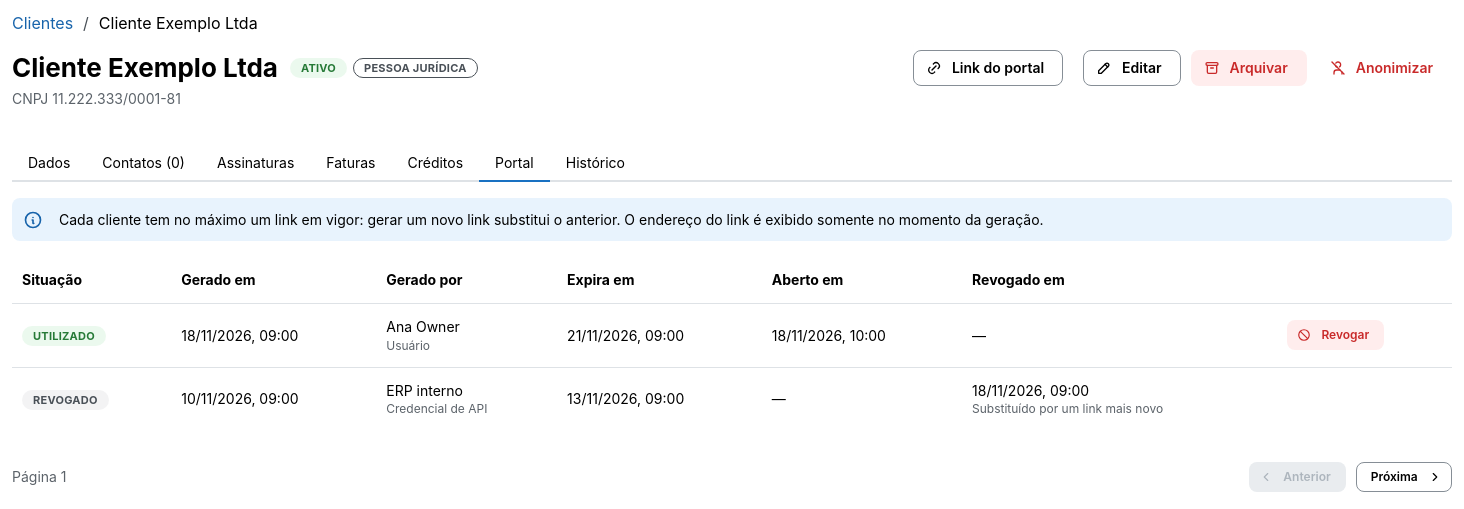
Test case: links do portal na ficha do cliente › pagina a lista pelo cursor
Expected: the number of rows is 3, [12,258,1452,304]; [12,304,1452,367]; [12,367,1452,430]
Click the button "Próxima" at point(1404, 477), box [1356,462,1452,492]
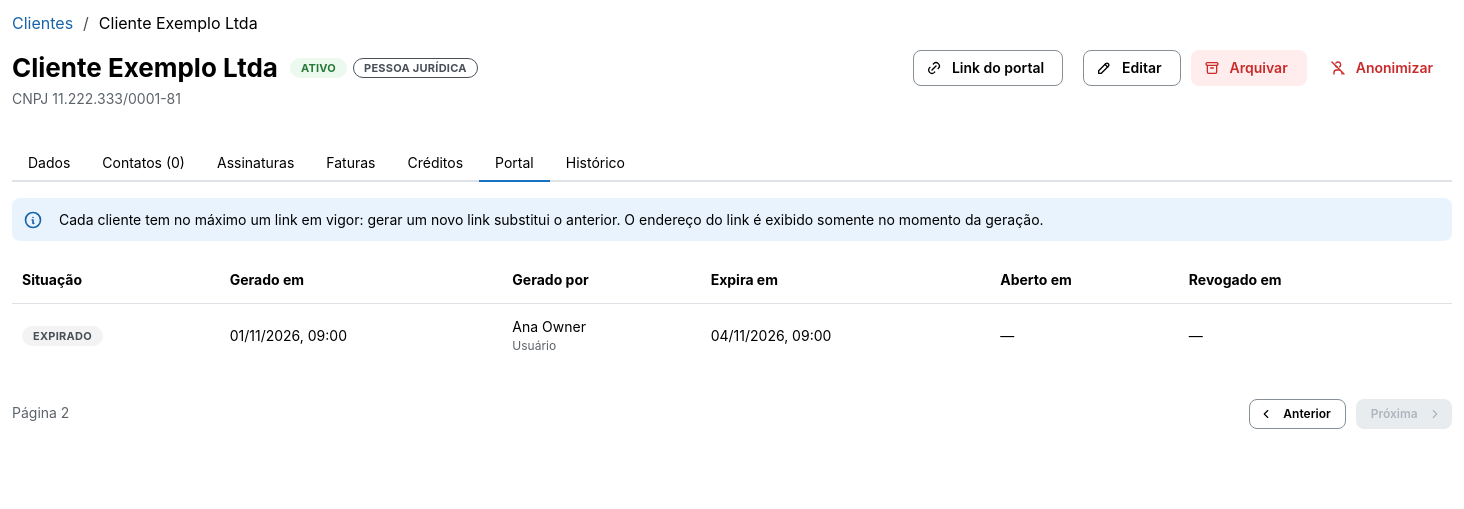
Expected: the text "Expirado" is shown, [33,327,92,345]
Expected: the number of rows is 2, [12,258,1452,304]; [12,304,1452,367]
Expected: the button "Anterior" is enabled, [1249,399,1346,429]
